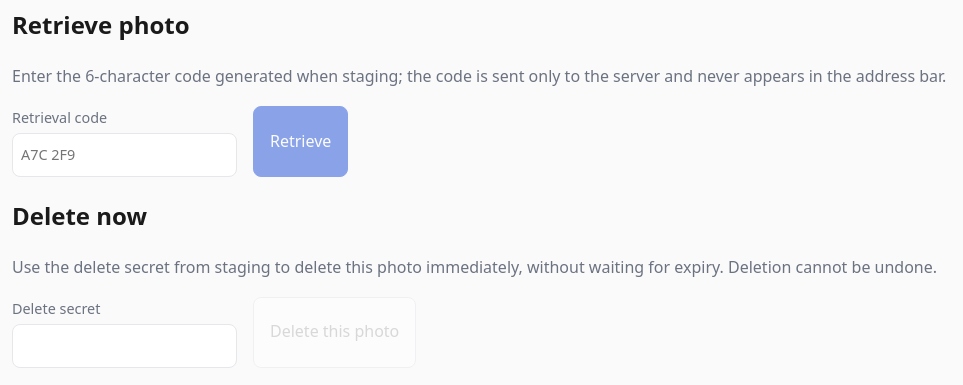
Test case: RetrievePage › offers a delete entry point outside the staging page
The width and height of the screenshot is (963, 385).
Type "A7C2F9" into the field labelled "Retrieval code".
click(124, 155); type("A7C2F9")  # box [12,133,237,177]
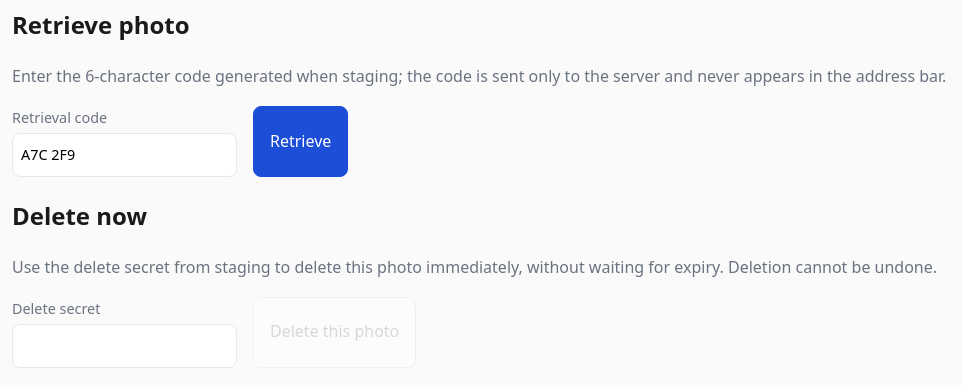
Type "secret-value-123456" into the field labelled "Delete secret".
click(124, 346); type("secret-value-123456")  # box [12,324,237,368]
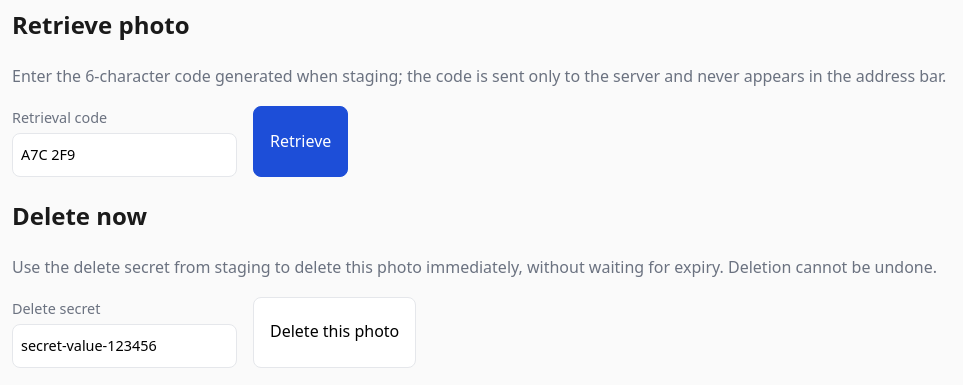
Click the button "Delete this photo".
click(335, 332)  # box [253,297,416,368]
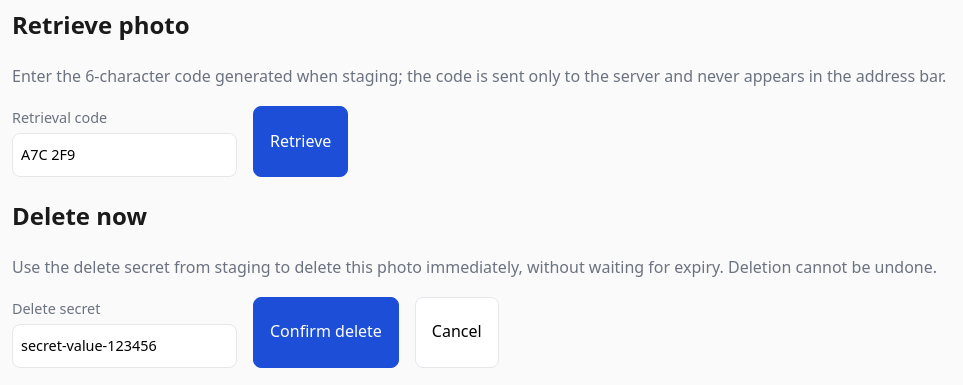
Click the button "Confirm delete".
click(326, 332)  # box [253,297,399,368]
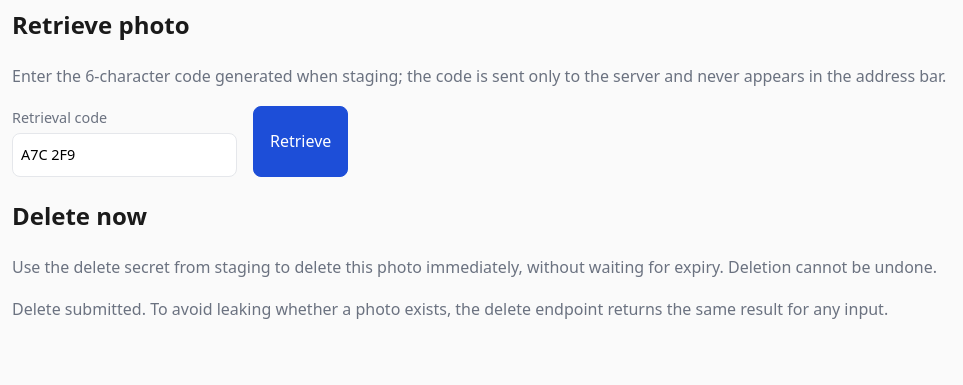
Result: the message shows "Delete submitted" at [12,298,888,320]
